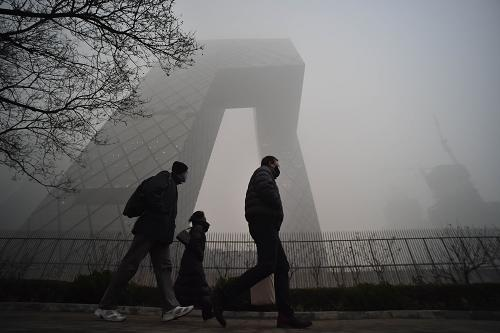mask: (177, 173, 191, 182)
